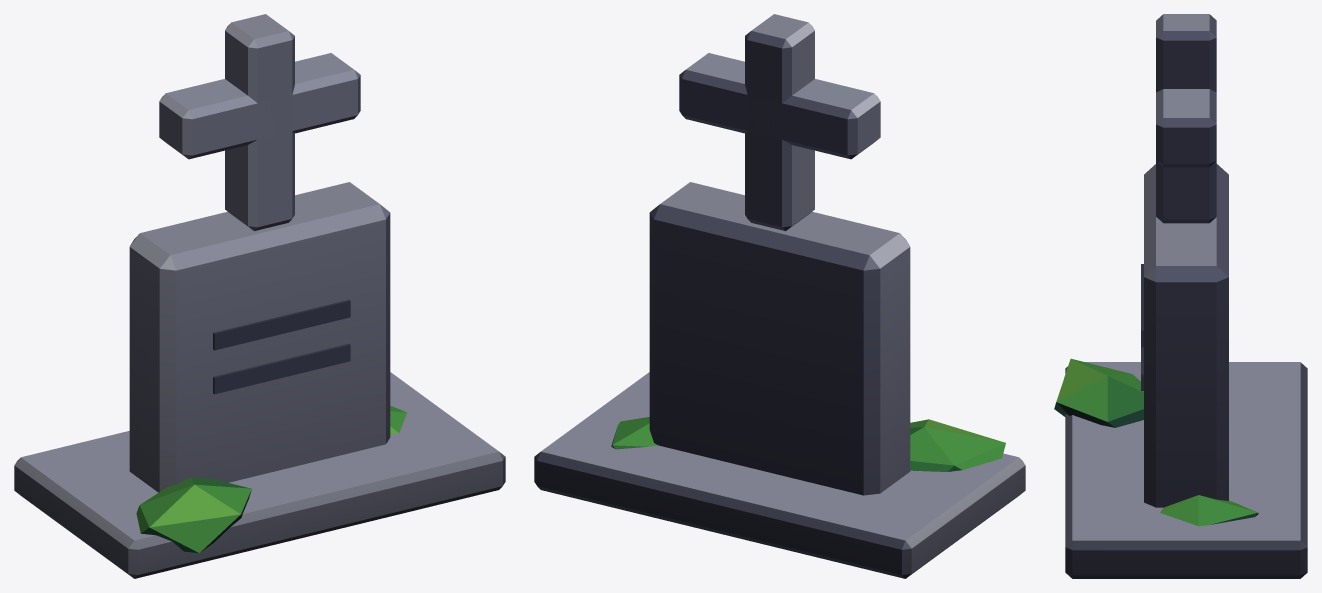
Rendered from grave_b.glb.
3 views of the same model, side by side, from view 1: azimuth 30°, elevation 25°; view 2: azimuth 150°, elevation 25°; view 3: azimuth 270°, elevation 25° (orthographic).
Visible parts, largest first — view 1: grave_b; view 2: grave_b; view 3: grave_b.
Boxes of the visible parts, x1,y1,x2,y2 form: grave_b: [14, 14, 505, 578]; grave_b: [534, 14, 1025, 578]; grave_b: [1054, 14, 1307, 578].
Size of the model in its own units: 0.72 by 0.85 by 0.4181.
